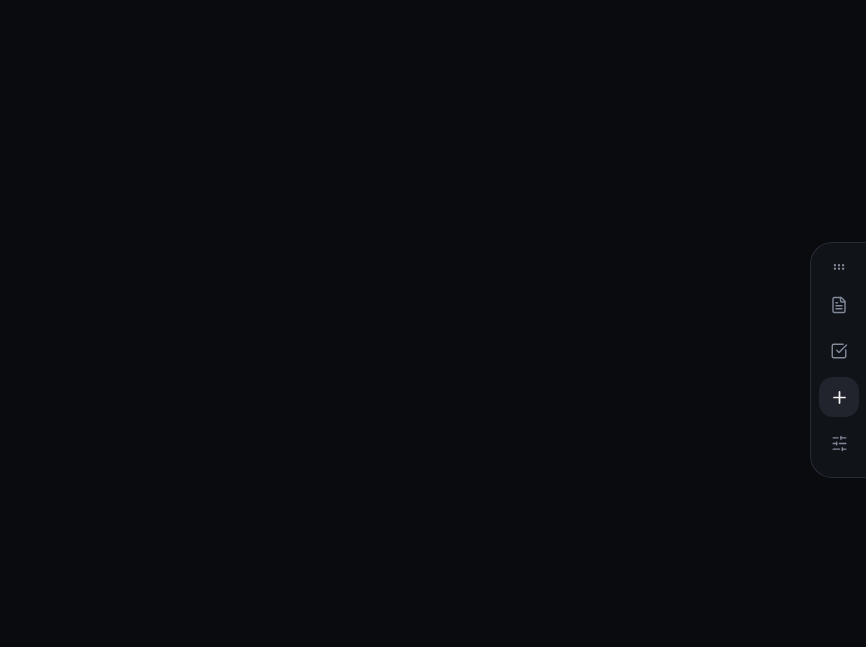
Test case: App (fluxos integrados do dock) › expande, troca de borda sem recolher o painel e recolhe com Escape
The image size is (866, 647).
Check: the heading "Notas rápidas" is not shown
Click the button named "Notas rápidas" at (839, 305), box top-left (819, 285), bottom-right (859, 325)
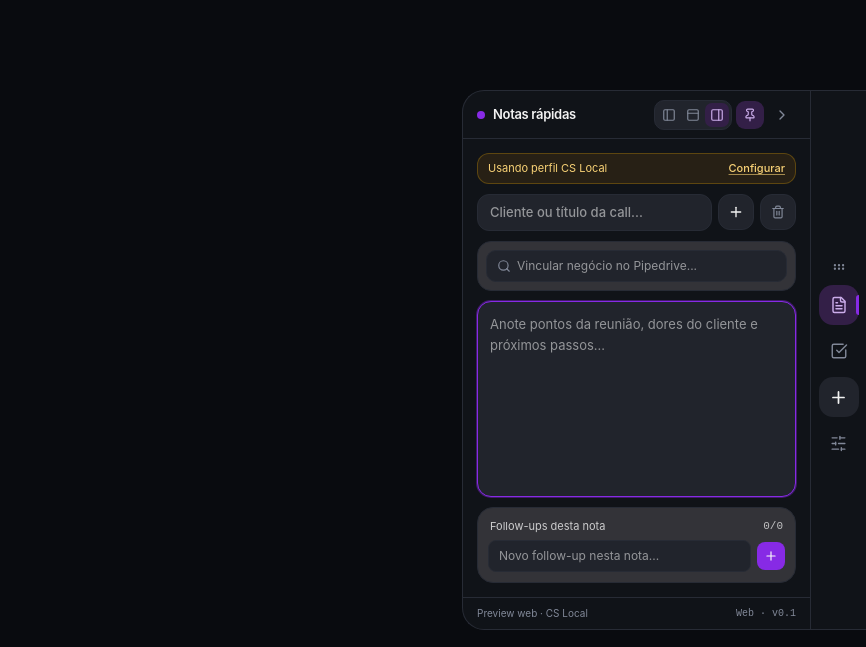
Check: the heading "Notas rápidas" is shown, box top-left (493, 105), bottom-right (576, 124)
Click the button named "Encaixar no topo" at (693, 114), box top-left (681, 102), bottom-right (705, 126)
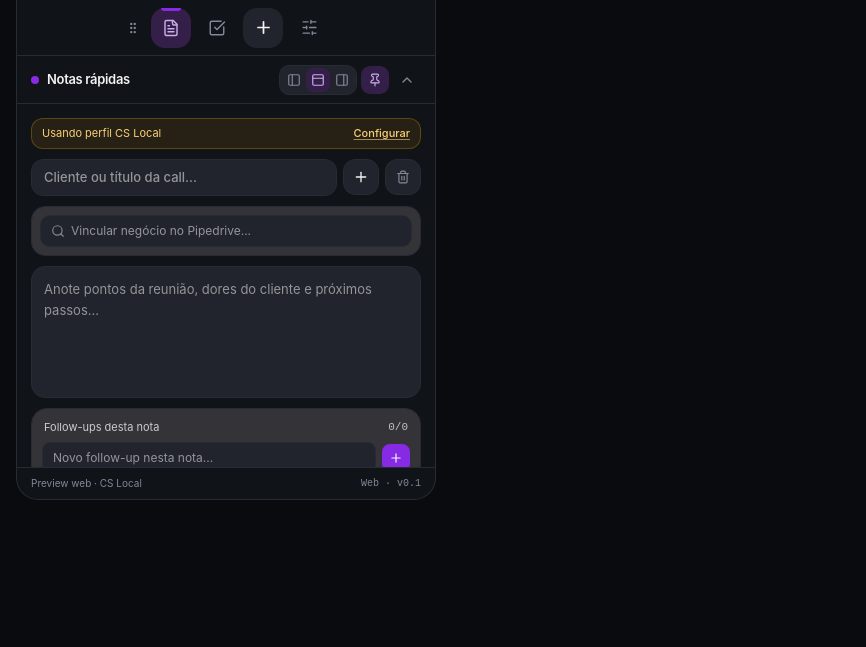
Check: the heading "Notas rápidas" is shown, box top-left (47, 70), bottom-right (130, 89)
Press Escape
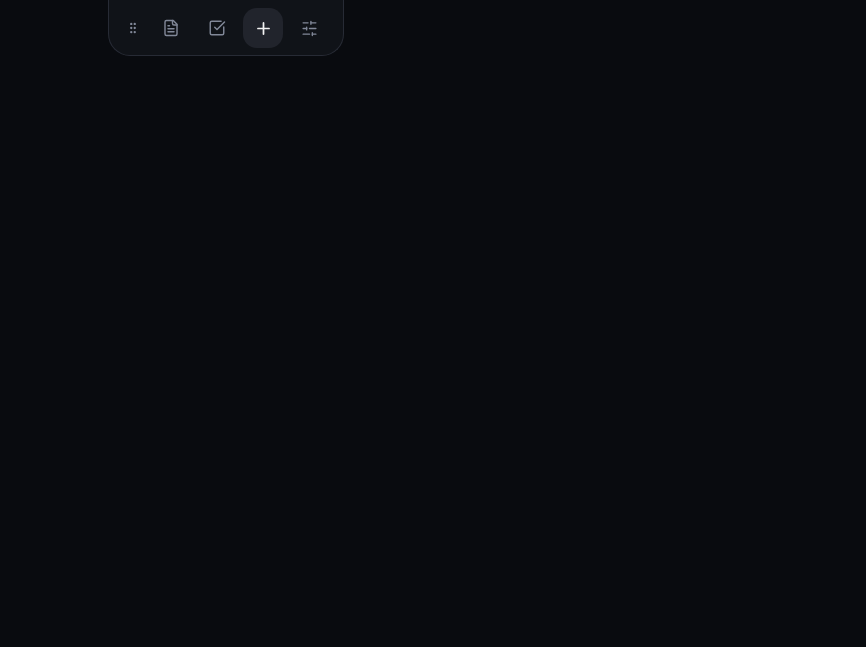
Check: the heading "Notas rápidas" is gone
